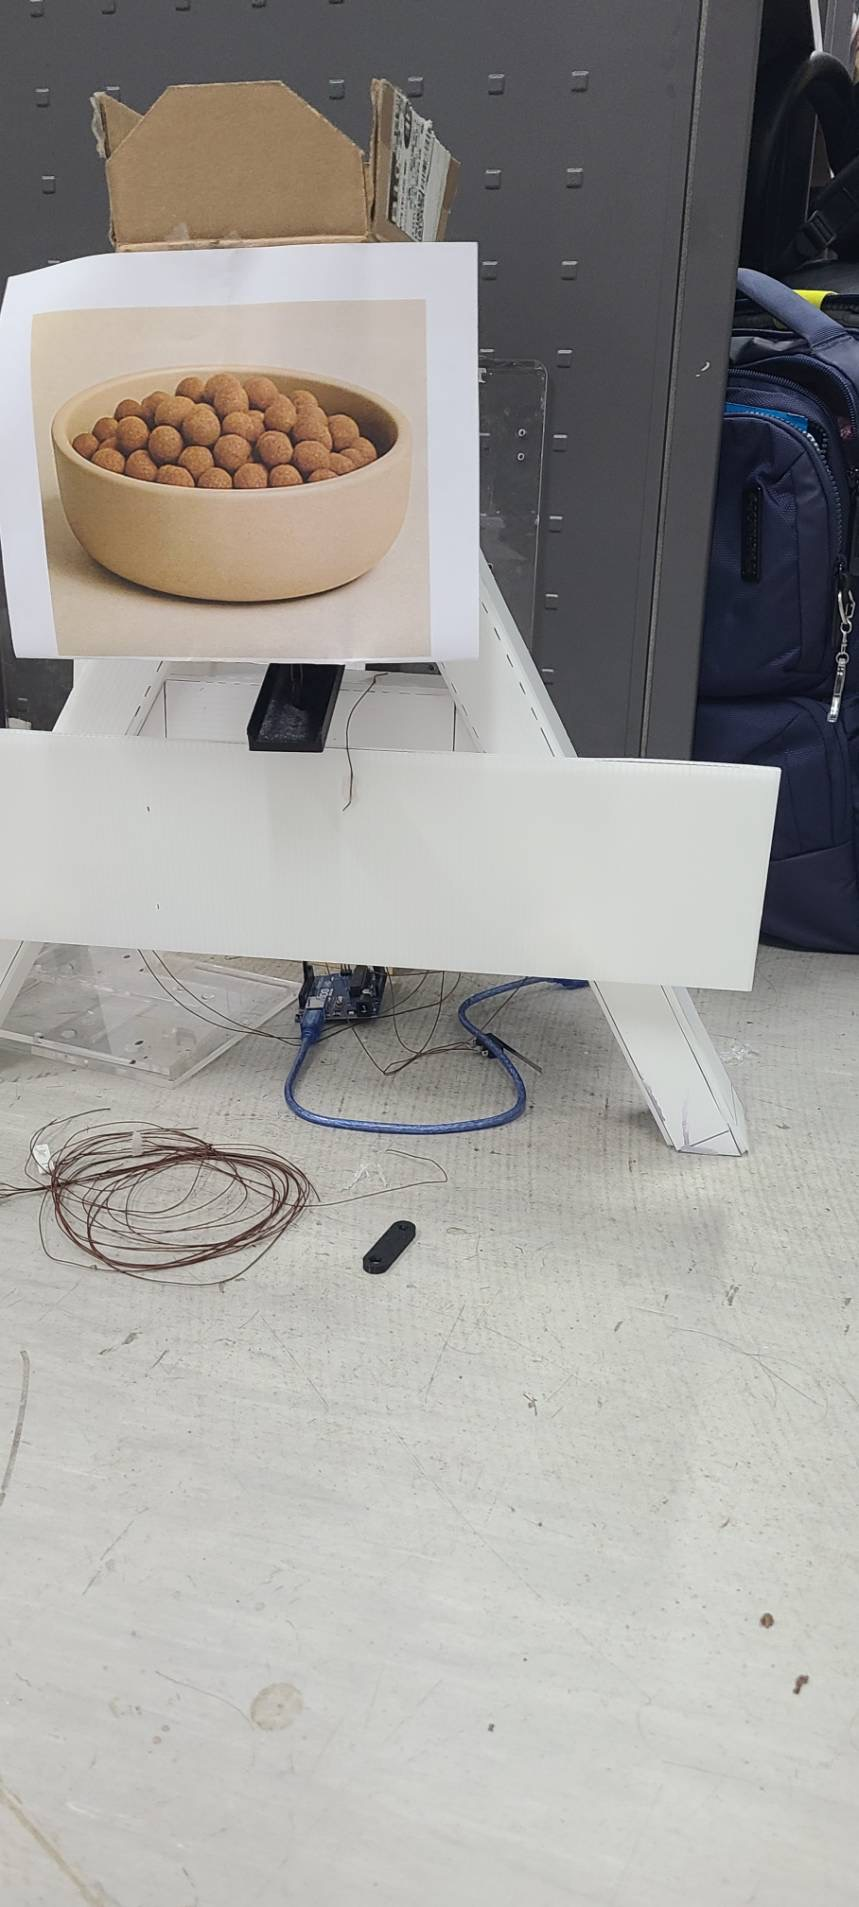machine: (51, 361, 415, 600)
